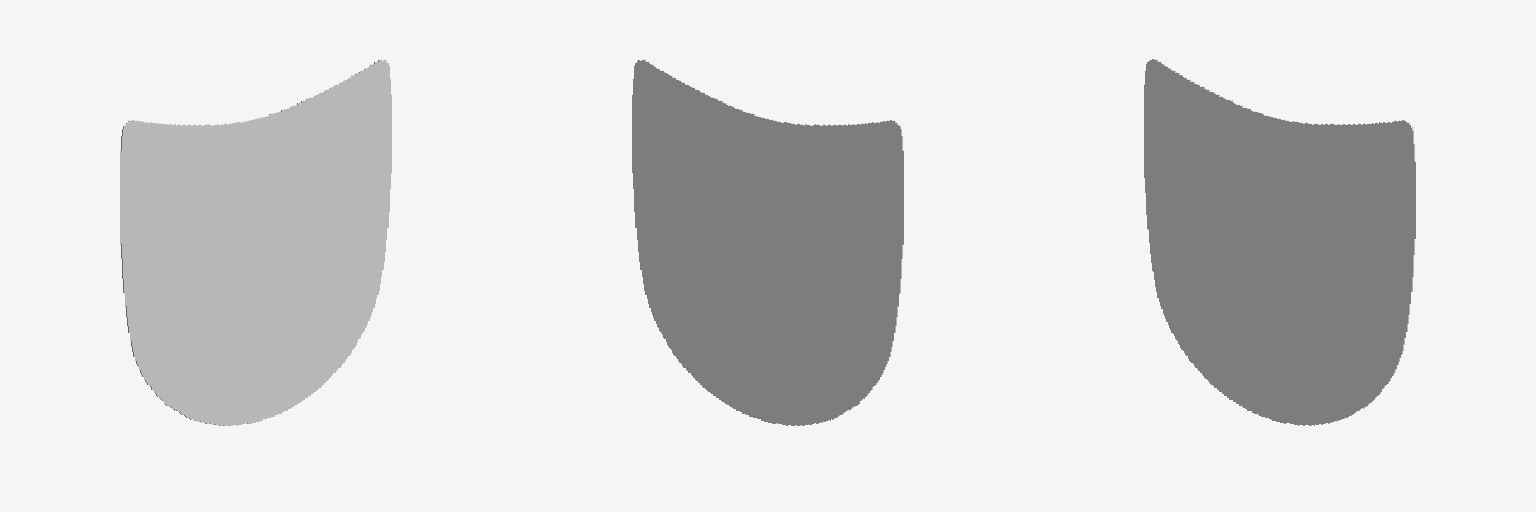
Rendered from MaskGuyHappy.obj.
3 views of the same model, side by side, from view 1: azimuth 30°, elevation 25°; view 2: azimuth 150°, elevation 25°; view 3: azimuth 330°, elevation 25° (orthographic).
Parts seen in each view (by area): view 1: object 1; view 2: object 1; view 3: object 1.
Part boxes in pixels (left/top/right/bottom): object 1: left=120, top=59, right=391, bottom=425; object 1: left=632, top=59, right=903, bottom=425; object 1: left=1144, top=59, right=1415, bottom=425.
Bounding box in the file's own units: 21.6 × 25.2 × 0.1.